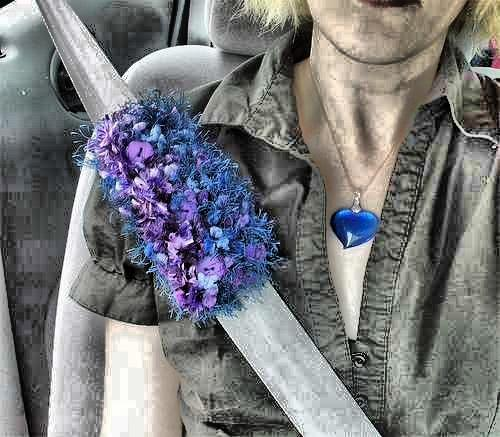seatbelt: (37, 9, 383, 437)
